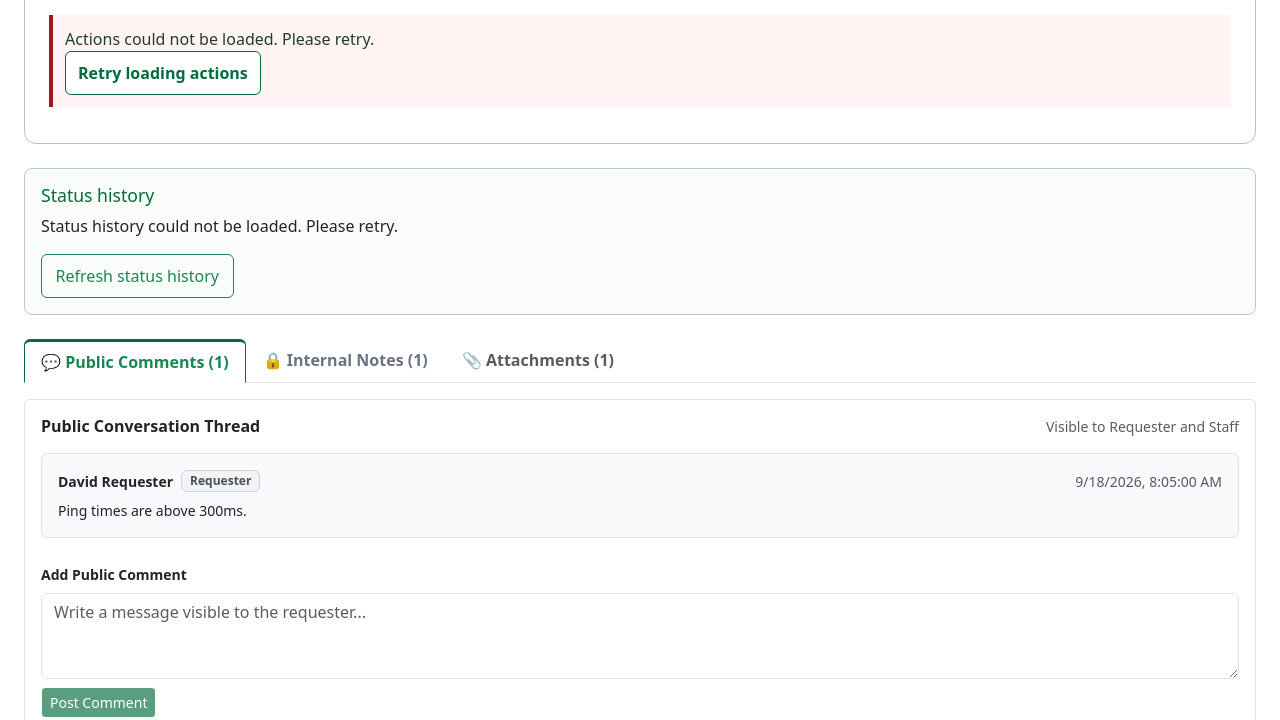
Test: StaffTicketDetail Component (Lab 3) › UI-09: Public Comments vs. Internal Notes Tabs Distinction (BR-04, STYLE-04) › renders Internal Notes panel with distinct background, lock icon, and confidential banner
The width and height of the screenshot is (1280, 720).
(page scrolled)
Note: Switch to Internal Notes tab
Click the tab with test id "tab-internal-notes" at (345, 360), box [246, 339, 445, 381]
(page scrolled)
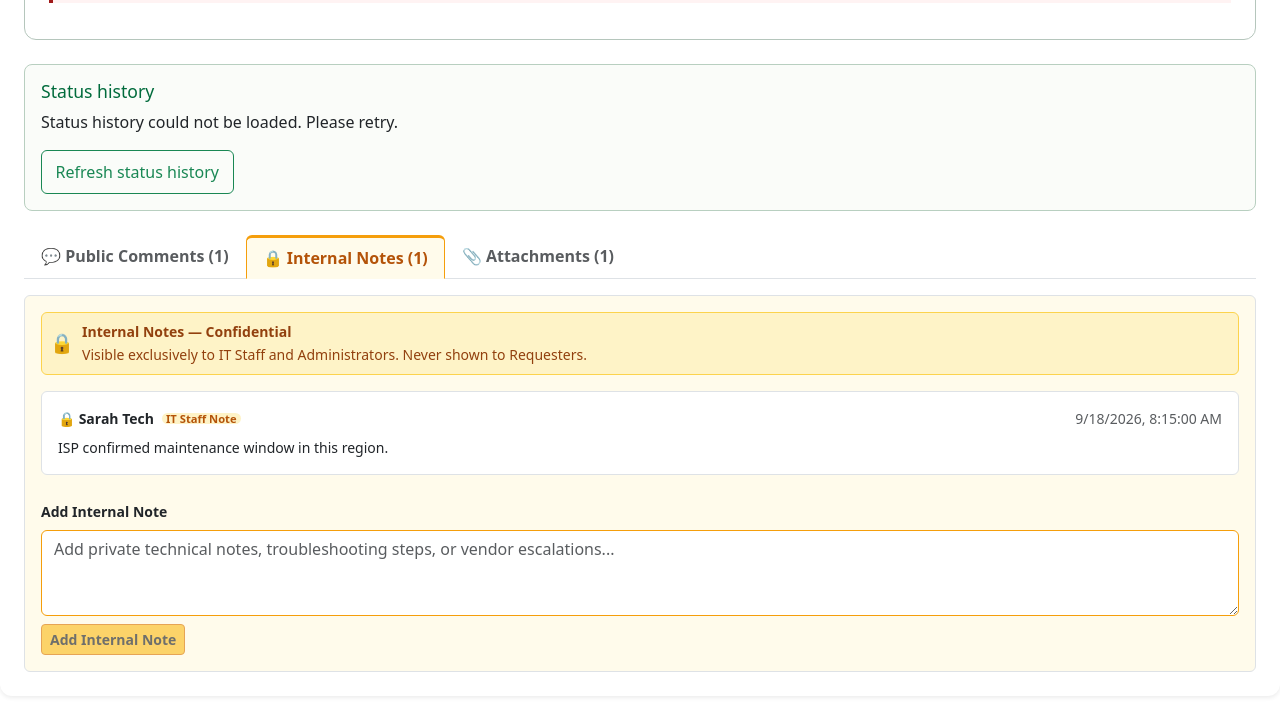
Result: the element with test id "internal-notes-panel" is shown at [24, 295, 1256, 672]
Result: the element with test id "internal-notes-banner" is shown at [41, 312, 1239, 375]
Result: the text "Internal Notes — Confidential" is shown at [82, 322, 291, 341]
